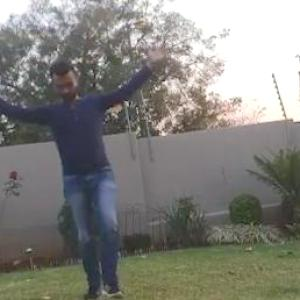takeoff: (1, 42, 164, 292)
